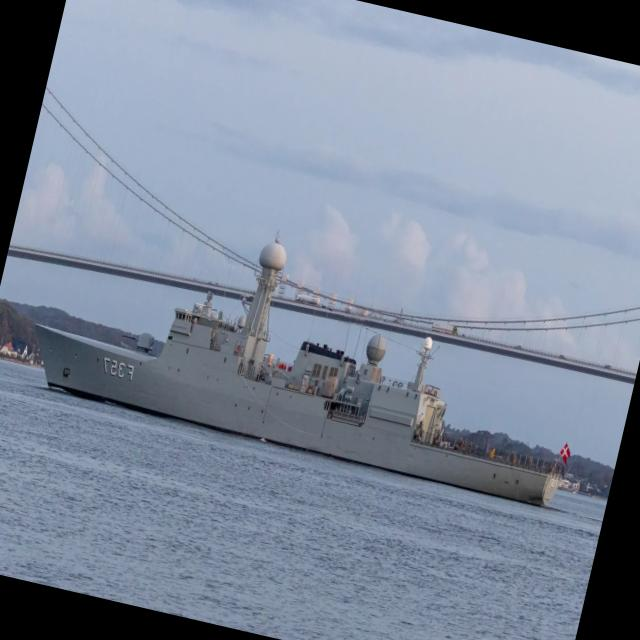Military: (36, 235, 559, 505)
